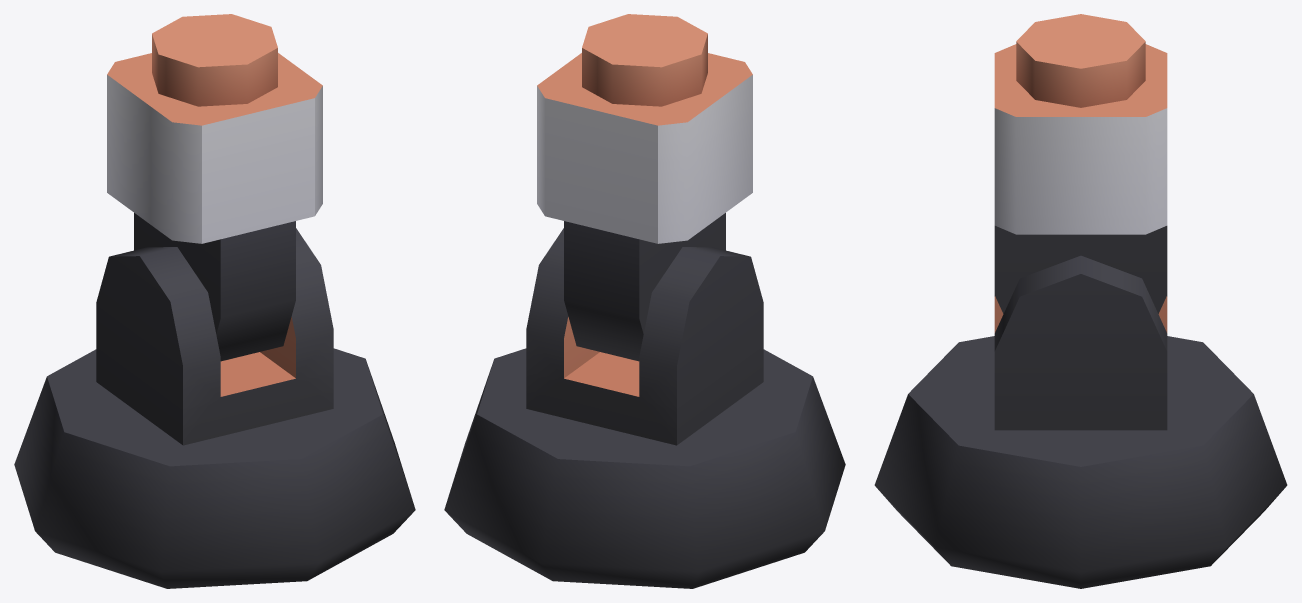
The model's file is crane-magnet.obj.
The picture shows the model from 3 angles, left to right: view 1: azimuth 30°, elevation 25°; view 2: azimuth 150°, elevation 25°; view 3: azimuth 270°, elevation 25°; orthographic projection.
Visible parts, largest first — view 1: crane-magnet; view 2: crane-magnet; view 3: crane-magnet.
Boxes of the visible parts, bbox=[...] form: crane-magnet: bbox=[14, 14, 415, 588]; crane-magnet: bbox=[444, 14, 845, 588]; crane-magnet: bbox=[874, 14, 1287, 588].
Bounding box in the file's own units: 0.7167 × 0.9 × 0.7167.
